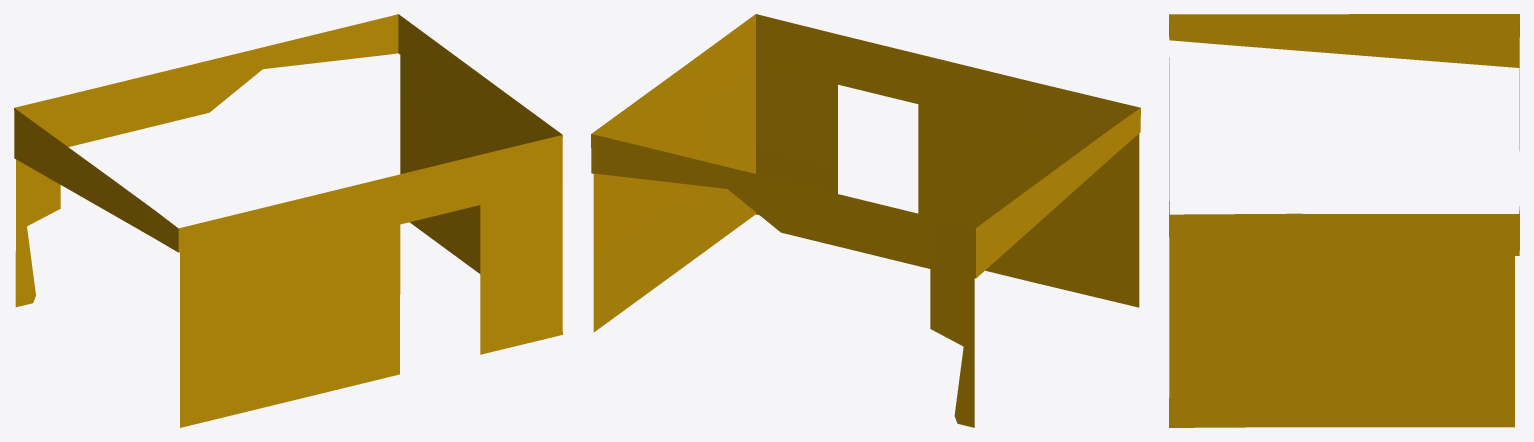
The model's file is BH07B_WP_06_Break.fbx.
3 renders of one model, left to right at view 1: azimuth 30°, elevation 25°; view 2: azimuth 150°, elevation 25°; view 3: azimuth 270°, elevation 25°, orthographic. The views are drawn at different scales.
Parts seen in each view (by area): view 1: BH07B_WP_06_Break; view 2: BH07B_WP_06_Break; view 3: BH07B_WP_06_Break.
Boxes of the visible parts, left/top/right/bottom form: BH07B_WP_06_Break: left=14, top=14, right=562, bottom=427; BH07B_WP_06_Break: left=591, top=14, right=1140, bottom=427; BH07B_WP_06_Break: left=1169, top=14, right=1519, bottom=427.
Bounding box in the file's own units: 603 × 301 × 447.
